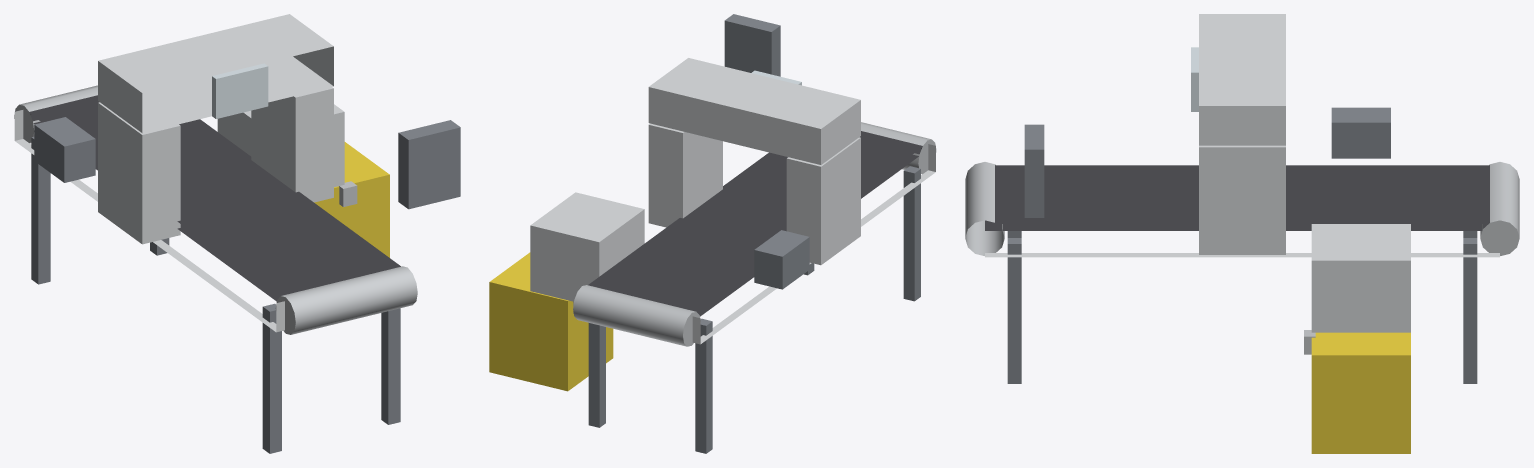
Rendered from SM_METAL_DETECTOR.fbx.
The picture shows the model from 3 angles, left to right: view 1: azimuth 30°, elevation 25°; view 2: azimuth 150°, elevation 25°; view 3: azimuth 270°, elevation 25°; orthographic projection. The views are drawn at different scales.
Visible parts, largest first — view 1: SM_METAL_DETECTOR; view 2: SM_METAL_DETECTOR; view 3: SM_METAL_DETECTOR.
Boxes of the visible parts, bbox=[...] form: SM_METAL_DETECTOR: bbox=[14, 14, 460, 453]; SM_METAL_DETECTOR: bbox=[489, 14, 936, 453]; SM_METAL_DETECTOR: bbox=[965, 14, 1519, 453].
Bounding box in the file's own units: 181 × 164 × 280.
